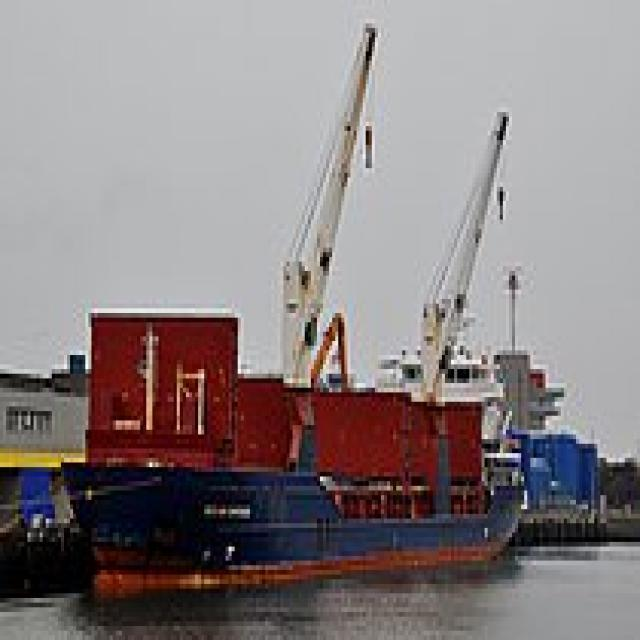Ship: (56, 286, 541, 613)
